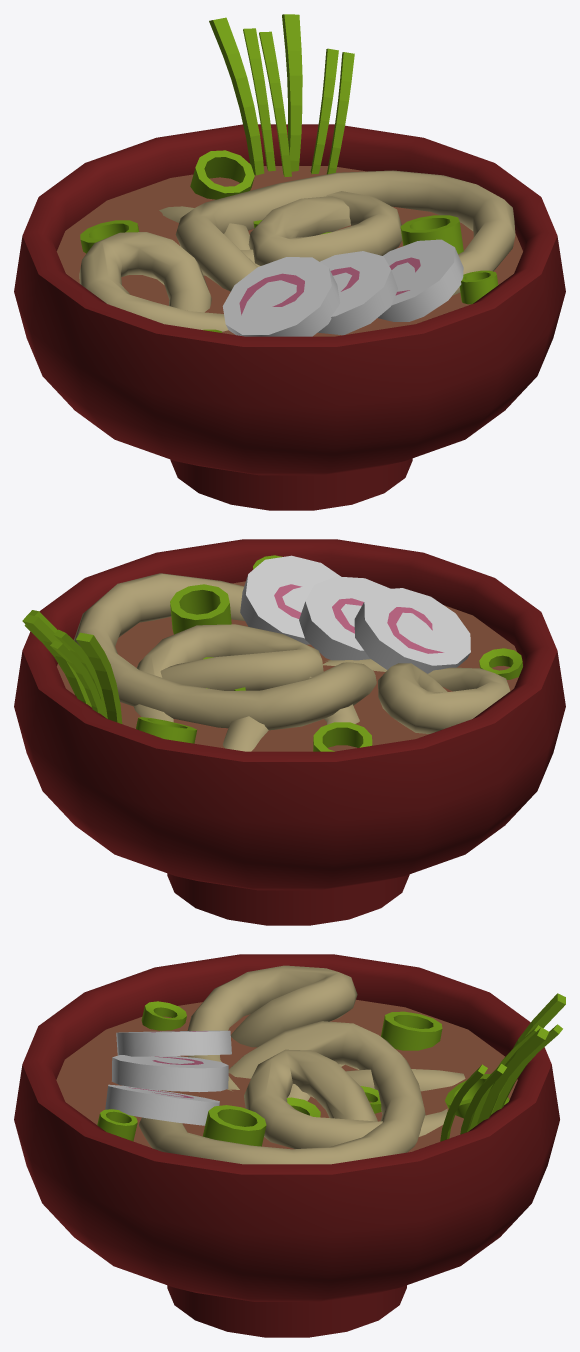
File: udon.glb
3 views of the same model, one above another, from view 1: azimuth 30°, elevation 25°; view 2: azimuth 150°, elevation 25°; view 3: azimuth 270°, elevation 25° (orthographic).
Visible parts, largest first — view 1: Food_Udon; view 2: Food_Udon; view 3: Food_Udon.
Part boxes in pixels (box(x1,y1,x2,y2)): Food_Udon: box(14, 14, 565, 510); Food_Udon: box(14, 539, 565, 925); Food_Udon: box(14, 954, 565, 1337).
Bounding box in the file's own units: 0.9731 × 0.6442 × 0.9986.
